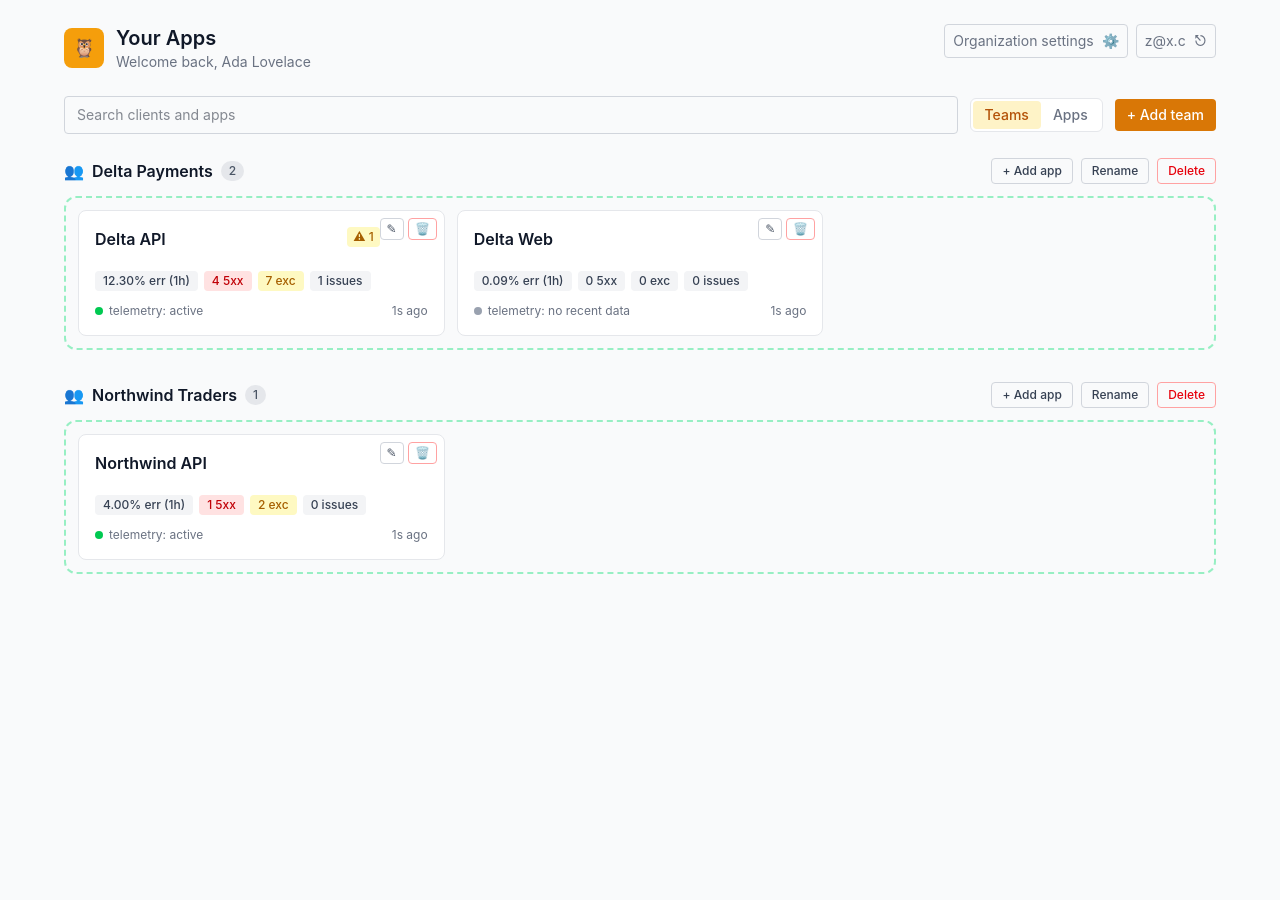
Test case: OrgDashboard › opens the Add app modal from a team and creates an app
Click the button with test id "add-app" at (1032, 171), box [992,158,1073,184]
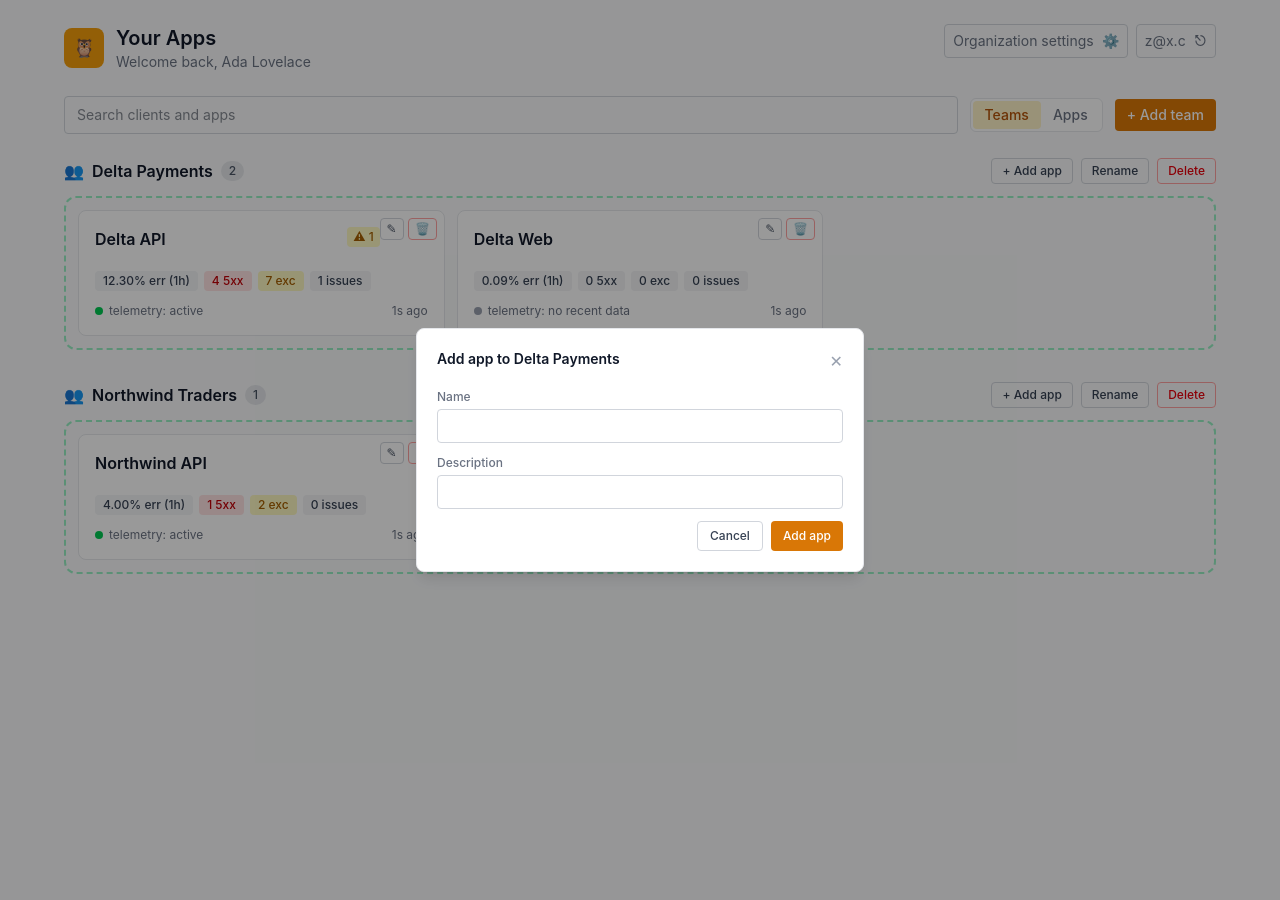
Result: the field with test id "app-modal-name" is shown
Type "New App" into the field with test id "app-modal-name" at (640, 426), box [437,409,843,443]
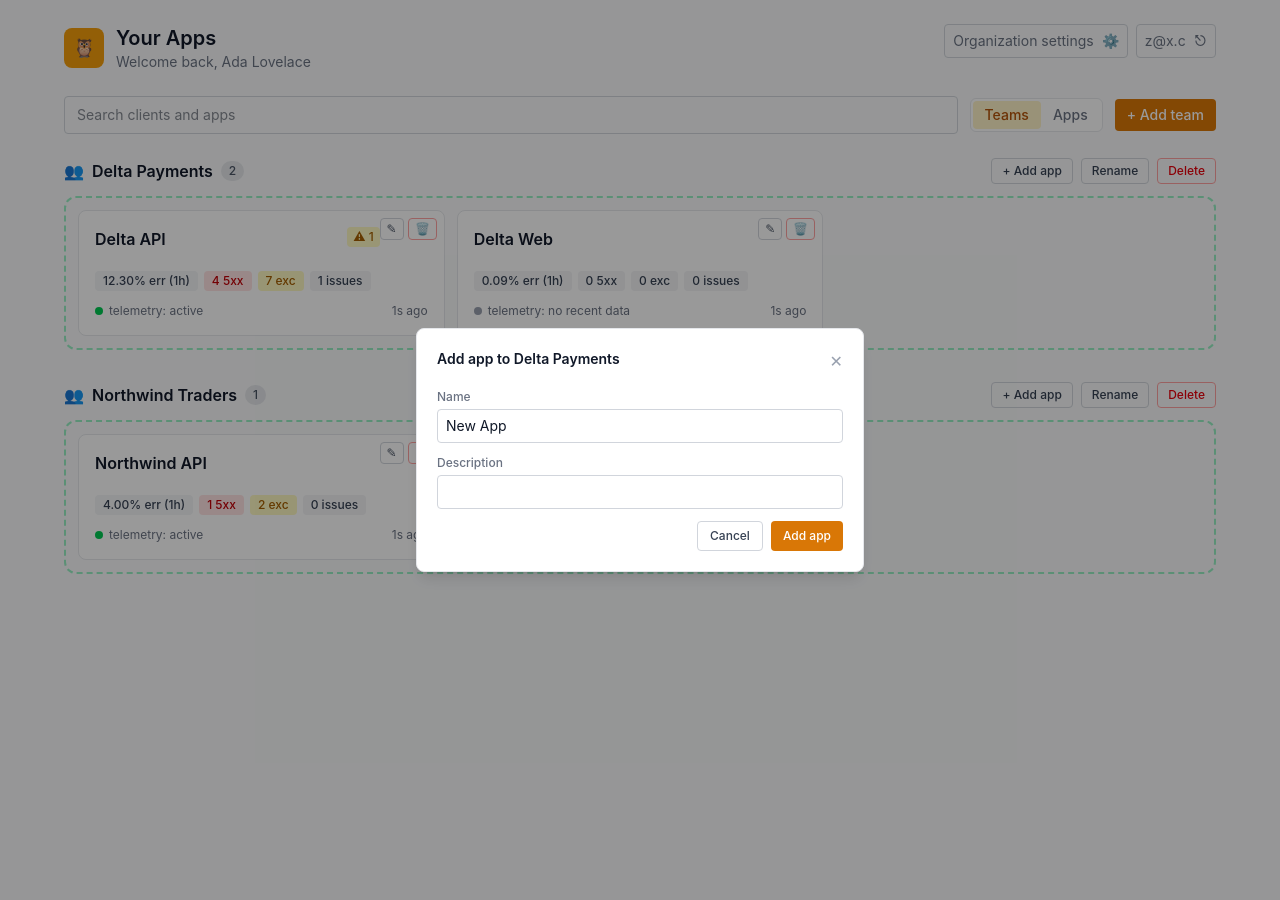
Click the button with test id "app-modal-submit" at (807, 536), box [771,521,843,551]
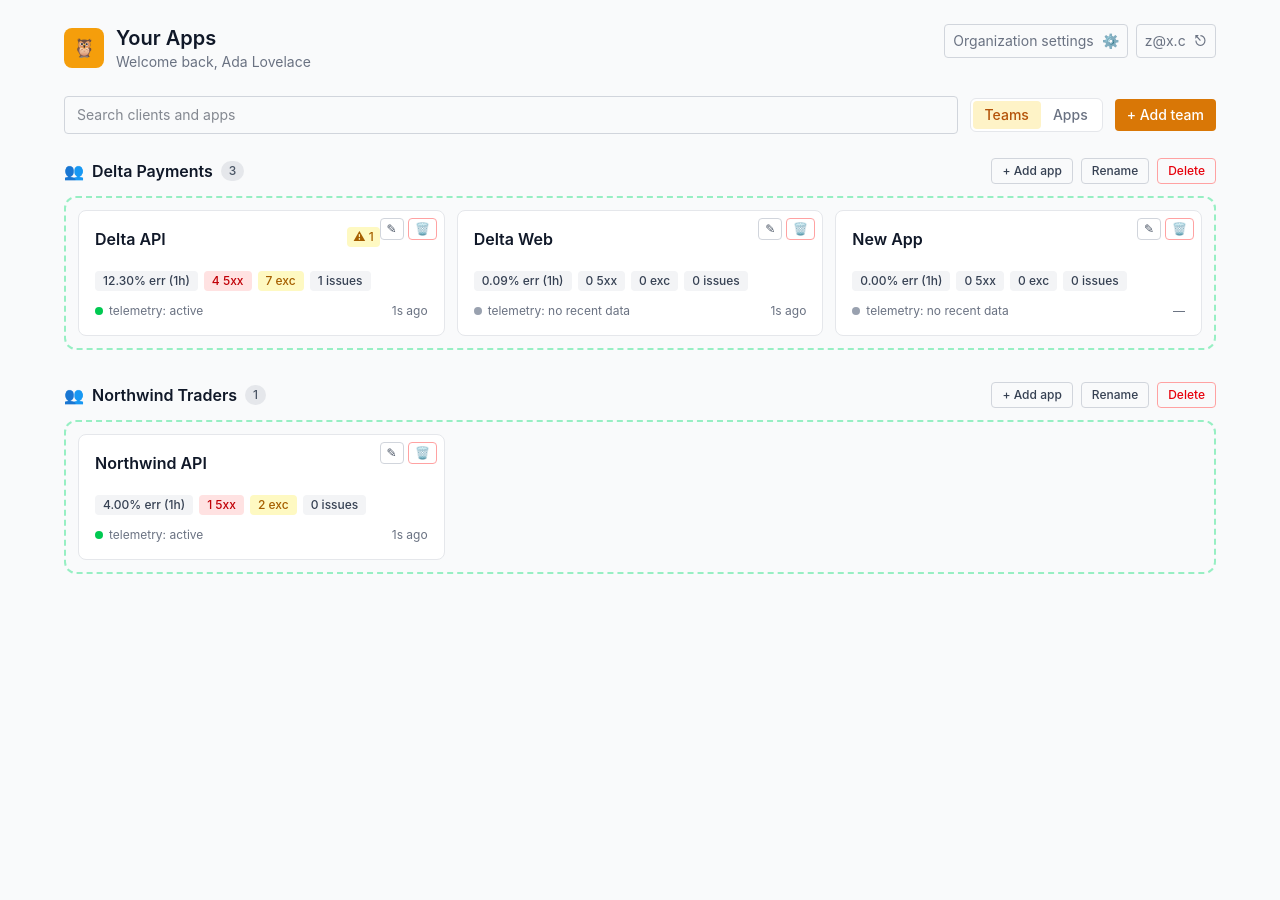
Result: the text "New App" is shown at [852,227,923,251]
